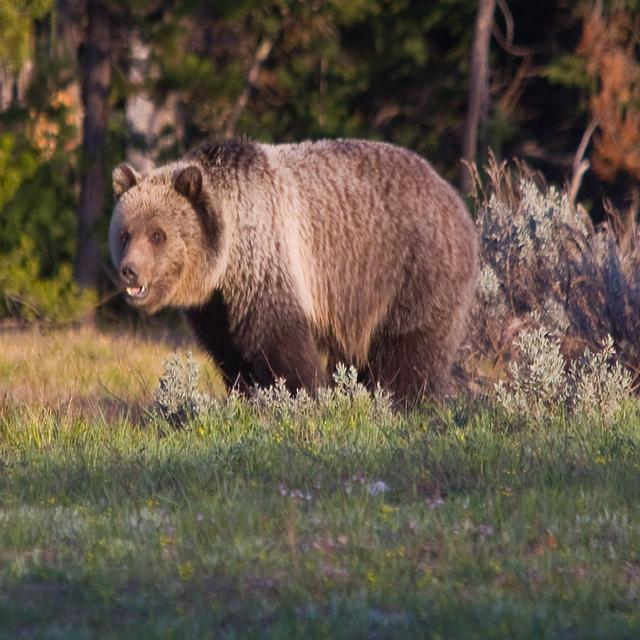Bear: (98, 121, 474, 413)
